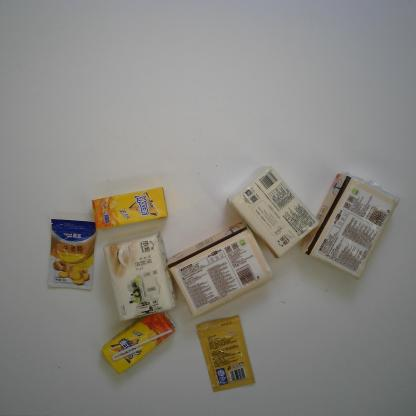Drink: (100, 306, 177, 376), (89, 183, 169, 231)
Seasoner: (194, 314, 257, 394), (46, 216, 98, 293)
Tissue: (162, 218, 273, 320), (299, 170, 399, 280), (222, 162, 319, 261), (101, 231, 179, 324)
